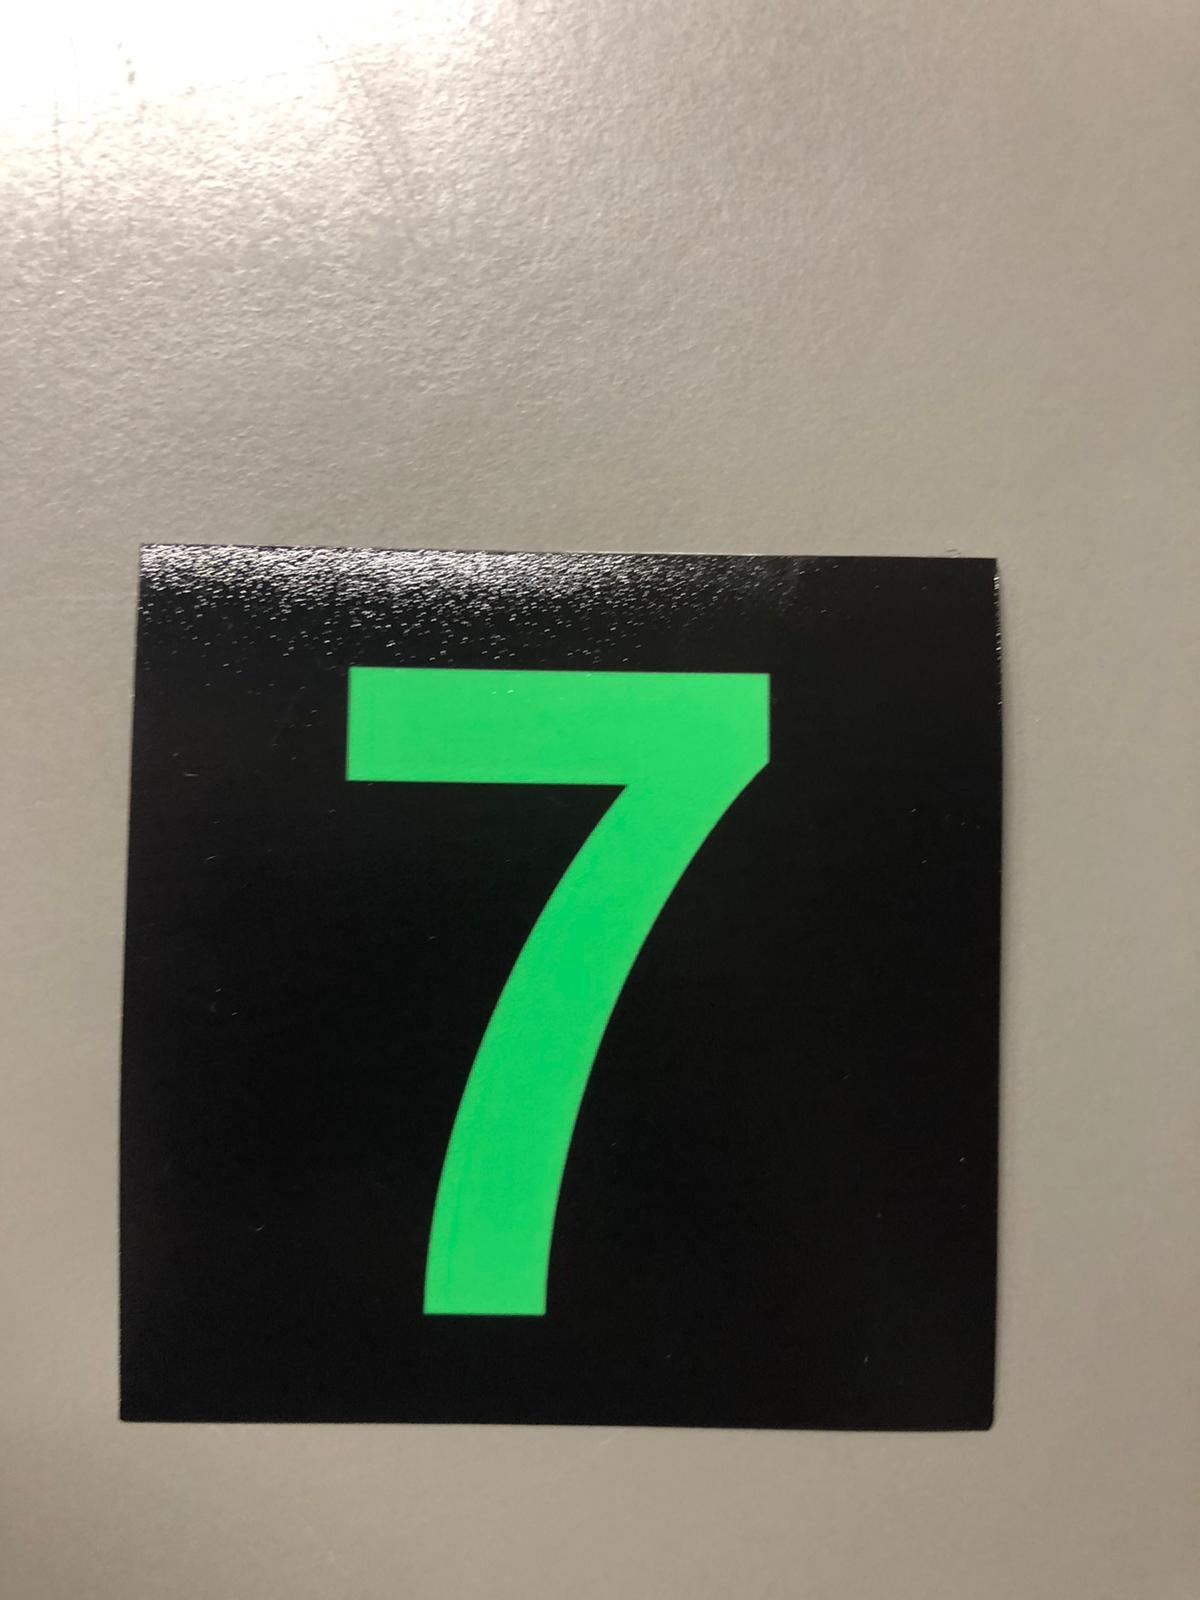Number 7: (145, 553, 972, 1409)
